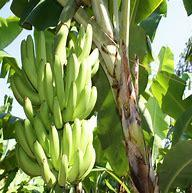banana: (2, 29, 108, 181), (5, 26, 104, 112), (12, 116, 104, 183)
